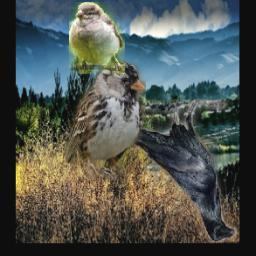Crow: (118, 100, 237, 243)
Sparrow: (66, 61, 145, 181), (69, 3, 125, 75)
